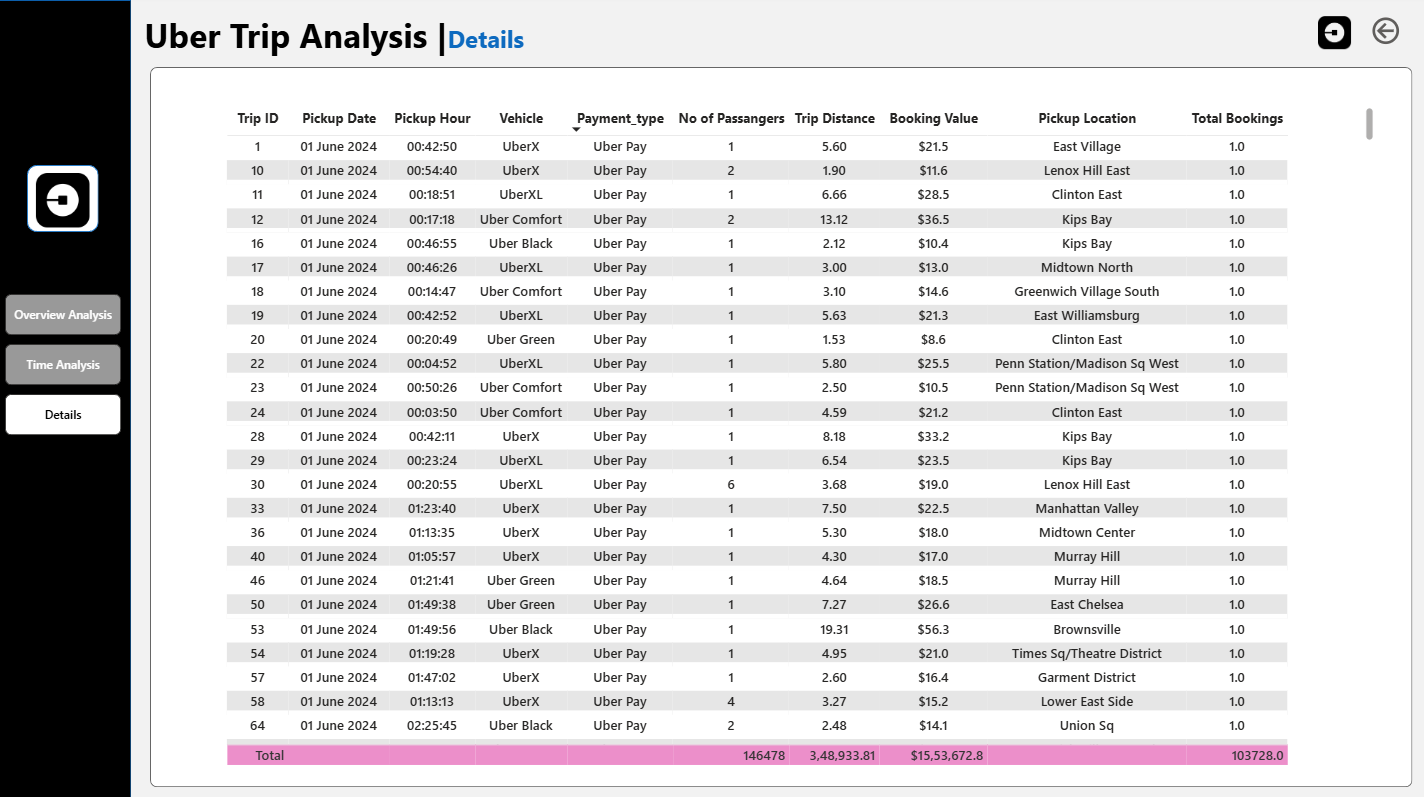

The dashboard page shown, as its layout file describes it:
{"tool":"powerbi","page":{"name":"Details  ","canvas":[1600,900],"ordinal":2},"visuals":[{"type":"shape","box":[0,0,151.5,898.5],"z":0},{"type":"shape","box":[35.3,184.8,80.2,75],"z":0,"group":"g1"},{"type":"textbox","box":[161.6,9,616,66.2],"z":1000},{"type":"image","box":[35.3,193.9,80.2,60.8],"z":1000,"group":"g1"},{"type":"shape","box":[172,75.2,1413.2,806.3],"z":2000},{"type":"tableEx","fields":{"Values":["Trip Details.Trip ID","Trip Details.Pickup Date","Trip Details.Pickup Hour (HH MM SS)","Trip Details.Vehicle","Trip Details.Payment_type","Sum(Trip Details.passenger_count)","Trip Details.Total Trip Distance Measure","Trip Details.Total Booking Value","Location Table.Location","Trip Details.Total Bookings"]},"box":[252.8,115,1293.7,745.9],"z":3000},{"type":"actionButton","box":[1535.6,15.1,49.4,39.8],"z":4000},{"type":"image","box":[1479.3,9.6,37,52.1],"z":5000},{"type":"pageNavigator","box":[9.7,329.5,130.1,158.1],"z":5001},{"type":"group","id":"g1","title":"Group 1","box":[35.3,184.8,80.2,74.2],"z":5002}]}

Visuals, with their boxes on the page's 1600x900 design canvas (x1, y1, x2, y2). These are canvas units, not pixel positions in the 1424x797 screenshot, which may show the page scaled, cropped or inside an application window:
shape: pyautogui.locateOnScreen(0, 0, 152, 898)
shape: pyautogui.locateOnScreen(35, 185, 116, 260)
textbox: pyautogui.locateOnScreen(162, 9, 778, 75)
image: pyautogui.locateOnScreen(35, 194, 116, 255)
shape: pyautogui.locateOnScreen(172, 75, 1585, 882)
tableEx - Trip Details.Trip ID x Trip Details.Pickup Date: pyautogui.locateOnScreen(253, 115, 1546, 861)
actionButton: pyautogui.locateOnScreen(1536, 15, 1585, 55)
image: pyautogui.locateOnScreen(1479, 10, 1516, 62)
pageNavigator: pyautogui.locateOnScreen(10, 330, 140, 488)
"Group 1" group: pyautogui.locateOnScreen(35, 185, 116, 259)
